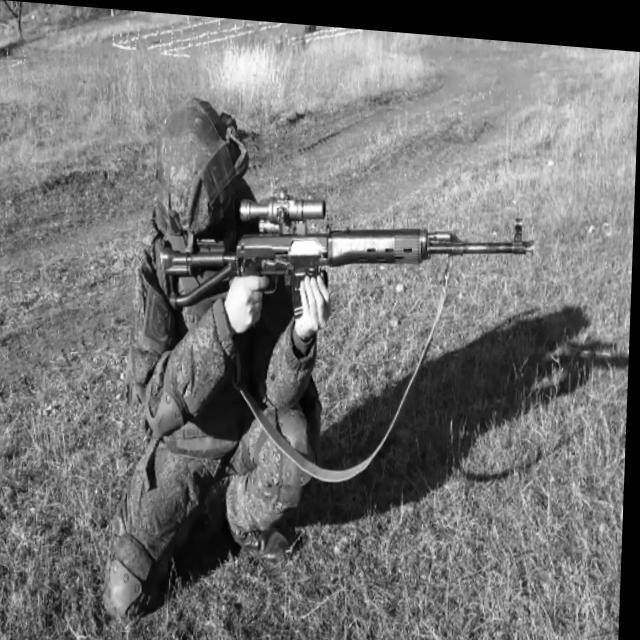other: (103, 90, 308, 599)
